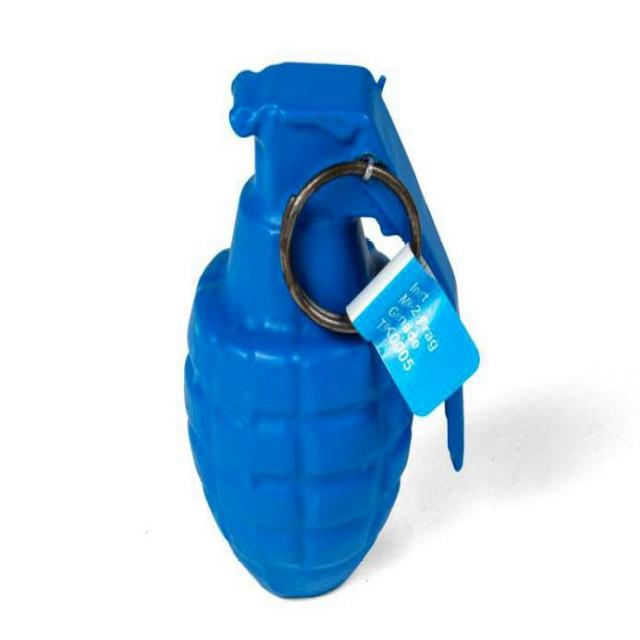grenade: (184, 61, 465, 600)
